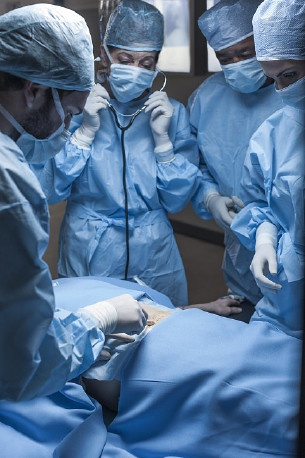Mask: (107, 48, 160, 101)
